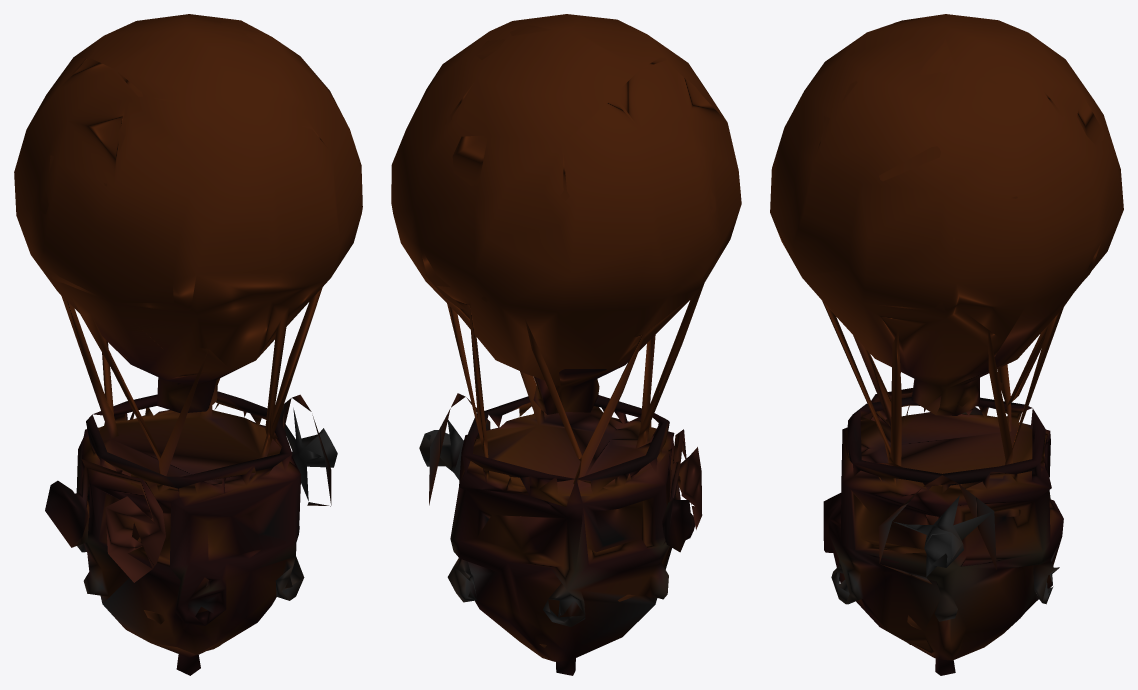
The model's file is gen3d-airship-lod1.glb.
3 views of the same model, side by side, from view 1: azimuth 30°, elevation 25°; view 2: azimuth 150°, elevation 25°; view 3: azimuth 270°, elevation 25° (orthographic).
Visible parts, largest first — view 1: part_0; view 2: part_0; view 3: part_0.
Boxes of the visible parts, <box> form: part_0: <box>14,14,362,675</box>; part_0: <box>391,14,741,675</box>; part_0: <box>770,14,1123,675</box>.
Bounding box in the file's own units: 0.4906 × 0.9968 × 0.495.
